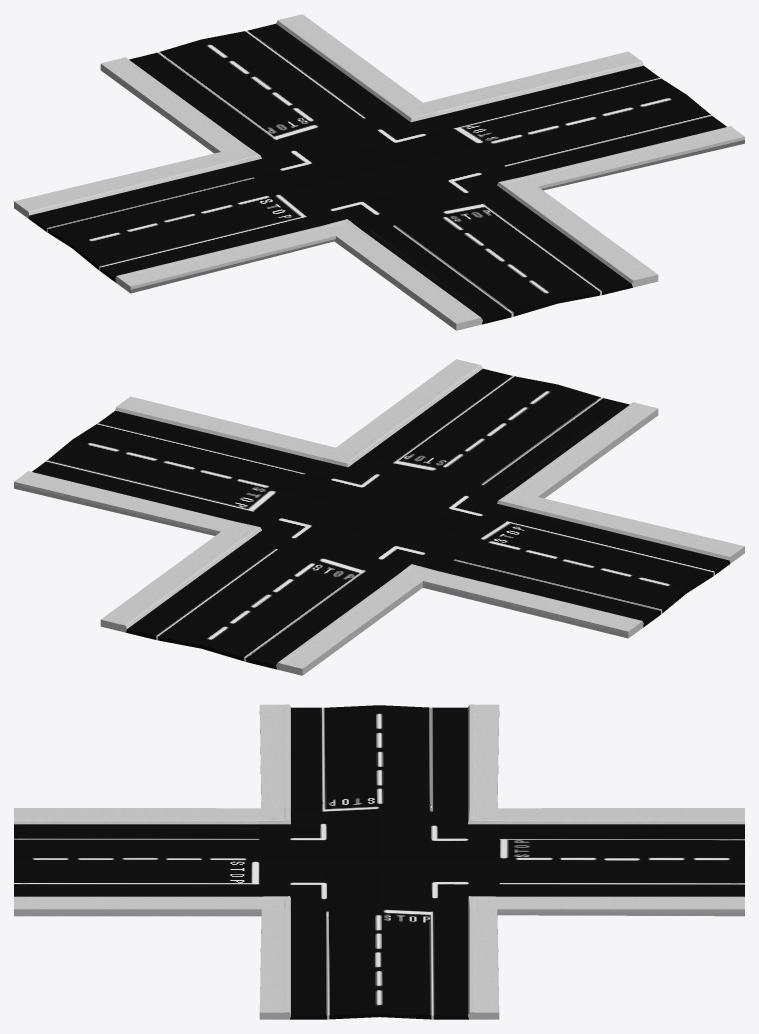
The model's file is Road_Intersection.fbx.
The picture shows the model from 3 angles, top to bottom: view 1: azimuth 30°, elevation 25°; view 2: azimuth 150°, elevation 25°; view 3: azimuth 270°, elevation 25°; orthographic projection. The views are drawn at different scales.
Visible parts, largest first — view 1: pCube4; view 2: pCube4; view 3: pCube4.
Part boxes in pixels (left/top/right/bottom): pCube4: left=14, top=14, right=744, bottom=330; pCube4: left=14, top=359, right=744, bottom=675; pCube4: left=14, top=704, right=744, bottom=1019.
Bounding box in the file's own units: 133 × 10.97 × 133.
